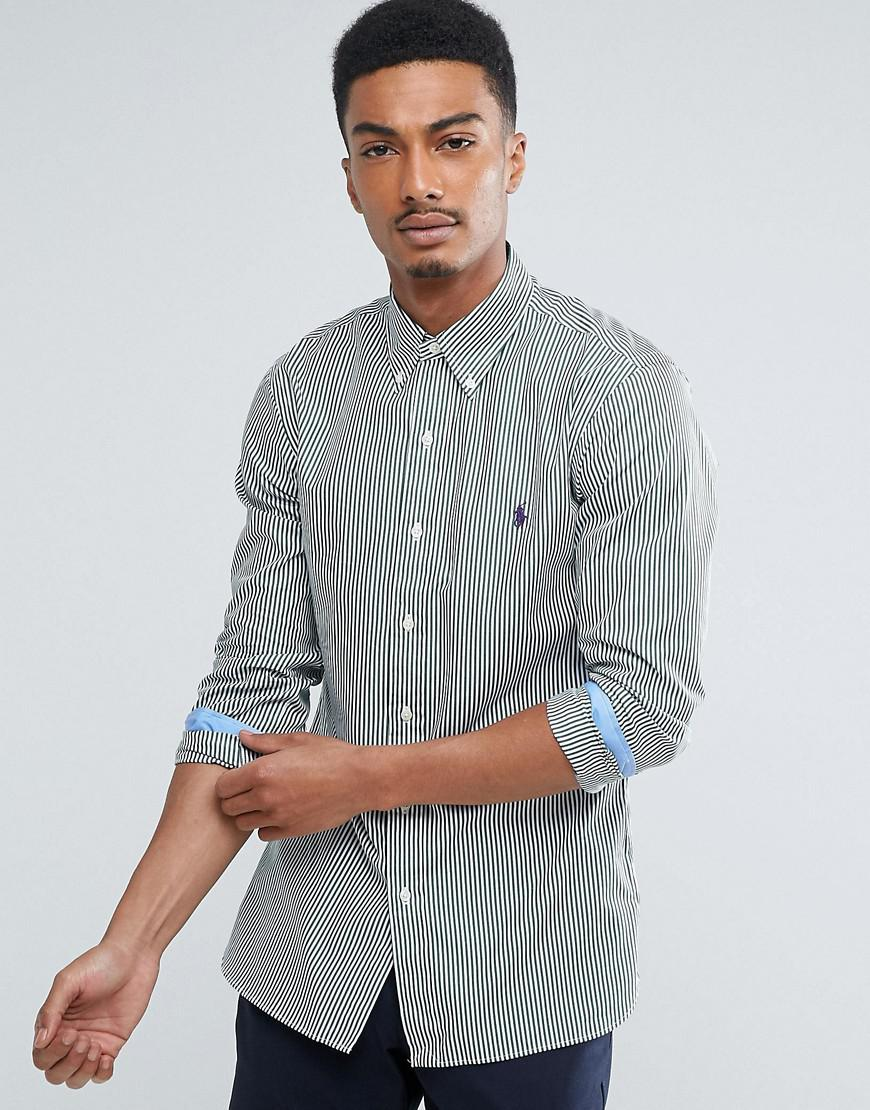teeshirt: (135, 288, 724, 1052)
